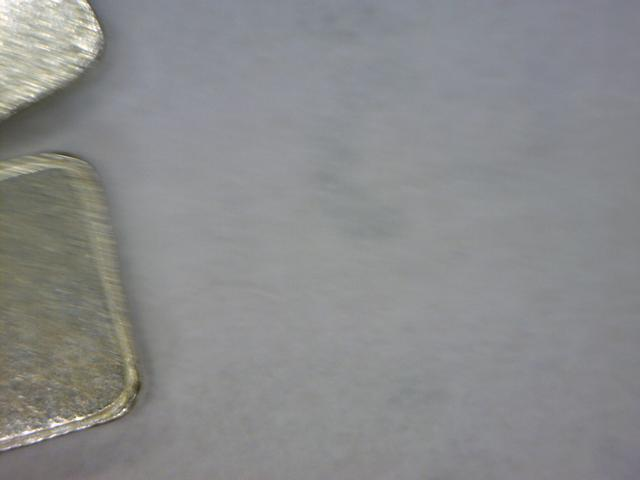nok: (4, 144, 160, 459)
